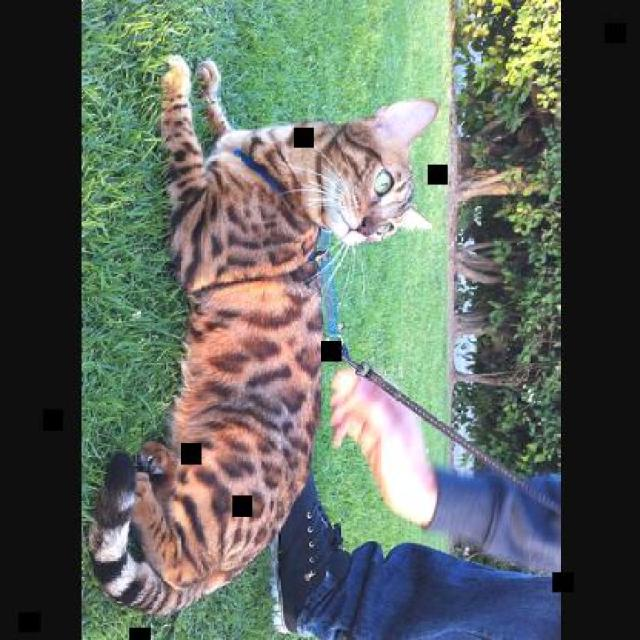unauthorized: (88, 52, 438, 617)
